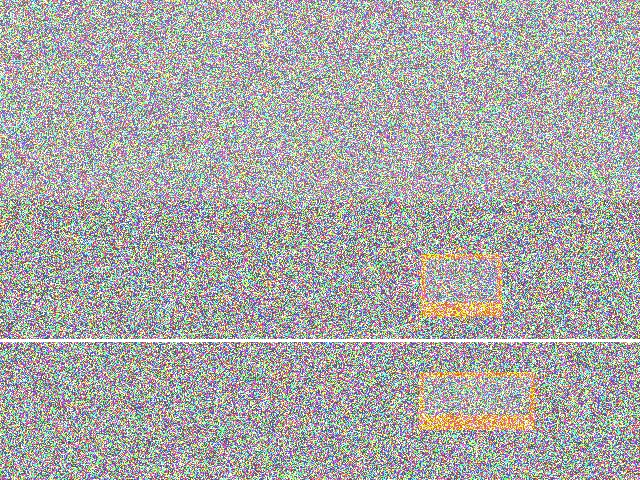truck: (375, 318, 494, 394)
